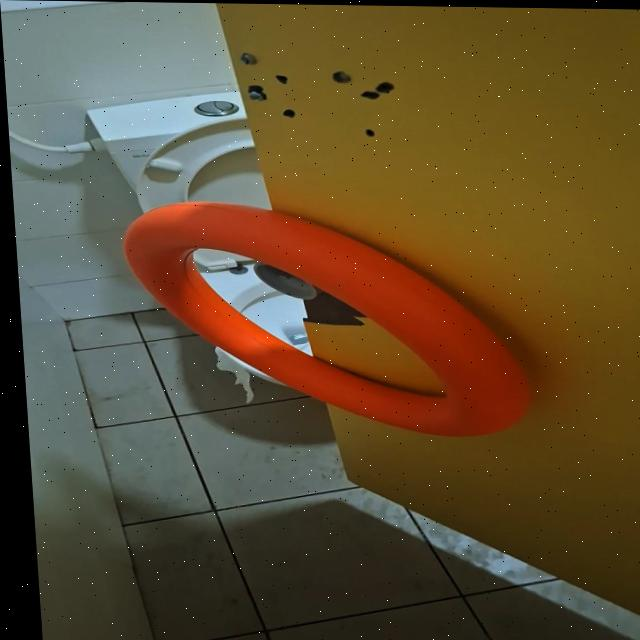note: (115, 198, 531, 439)
